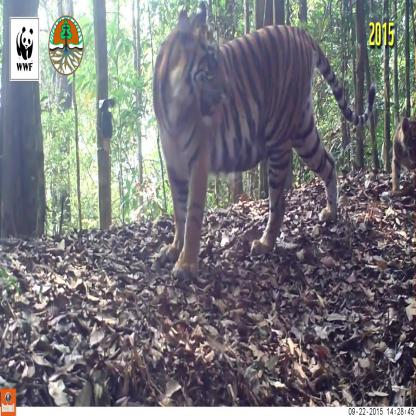Tiger: (141, 3, 377, 280)
